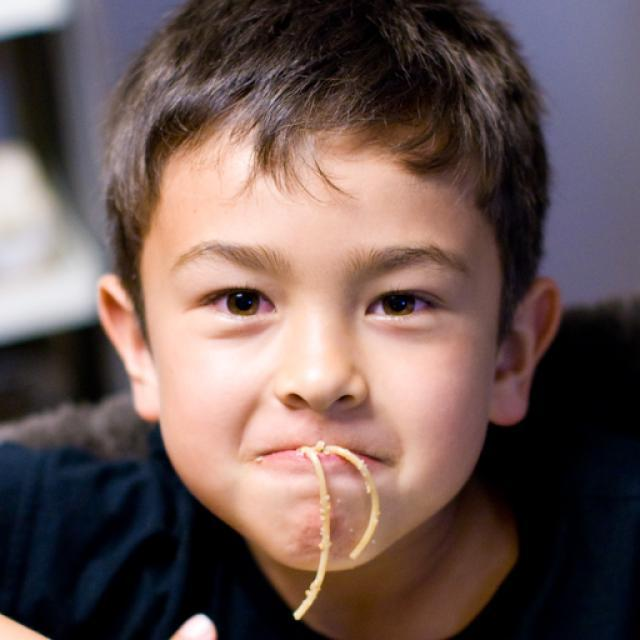disgust: (138, 103, 502, 572)
